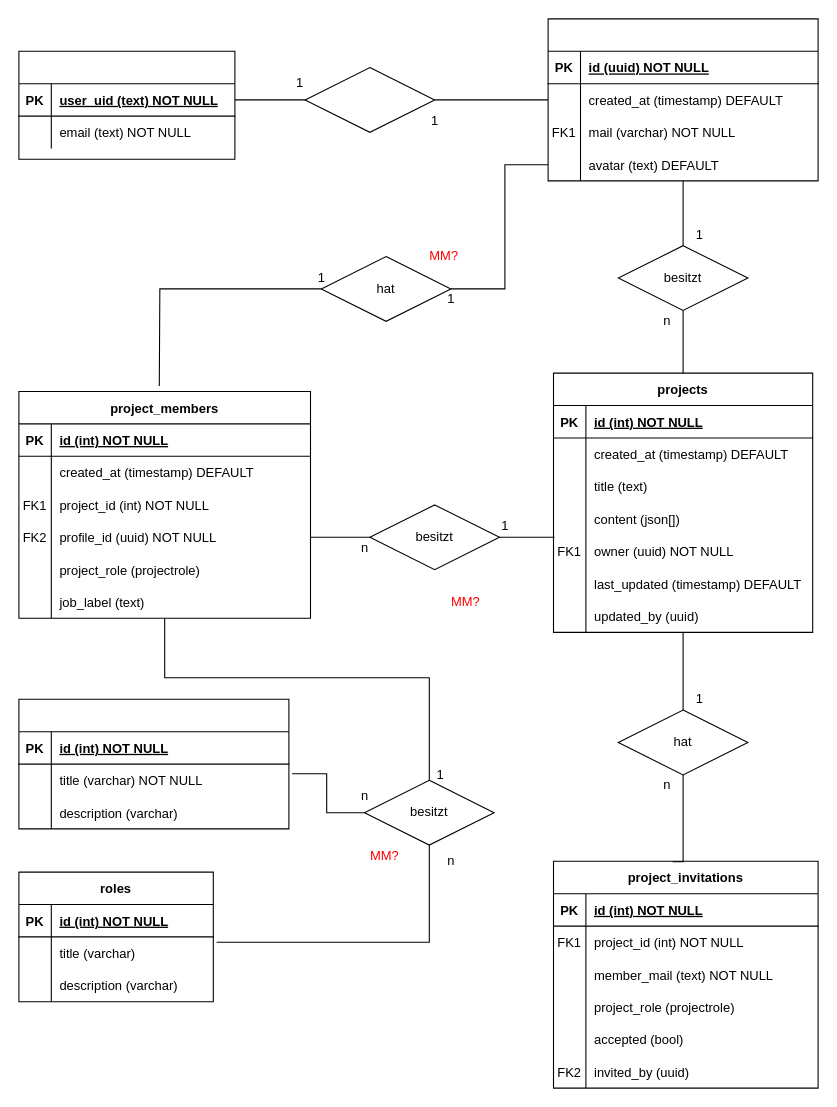
Image size: 837x1107. Some labels were removed from this diagram. Each missing label, with the box of its shape:
auth: (18, 50, 235, 159)
authentifiziert: (304, 66, 435, 132)
labels: (18, 698, 289, 829)
profiles: (547, 18, 818, 181)
